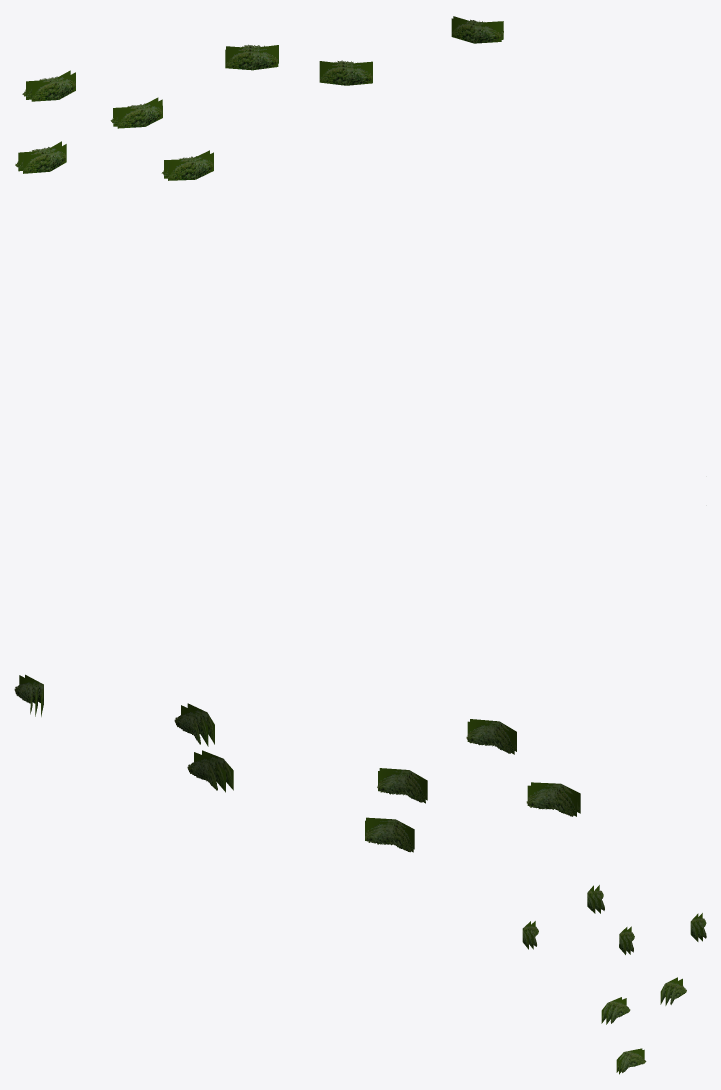
Rendered from gBUS1.obj.
The picture shows the model from 3 angles, top to bottom: view 1: azimuth 30°, elevation 25°; view 2: azimuth 150°, elevation 25°; view 3: azimuth 270°, elevation 25°; orthographic projection. The views are drawn at different scales.
Parts seen in each view (by area): view 1: bush015_2, bush014_2, bush013_2, bush08_2, bush06_2, bush02_2, bush07_2; view 2: bush07_0, bush02_0, bush08_0, bush06_0; view 3: no part large enough to name.
Boxes of the visible parts, bbox=[...] form: bush015_2: bbox=[225, 48, 278, 70]; bush014_2: bbox=[319, 64, 372, 85]; bush013_2: bbox=[451, 18, 501, 43]; bush08_2: bbox=[117, 99, 162, 128]; bush06_2: bbox=[168, 152, 213, 180]; bush02_2: bbox=[31, 72, 75, 101]; bush07_2: bbox=[23, 144, 66, 173]; bush07_0: bbox=[526, 790, 573, 816]; bush02_0: bbox=[365, 825, 411, 852]; bush08_0: bbox=[377, 775, 423, 802]; bush06_0: bbox=[466, 726, 511, 753].
Size of the model in its own units: 1128 by 211 by 1856.
